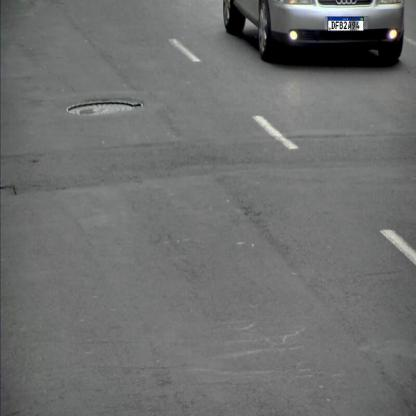PlacaM: (328, 17, 364, 31)
